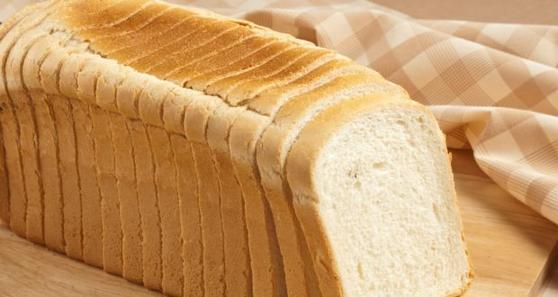white_bread: (6, 2, 312, 277)
